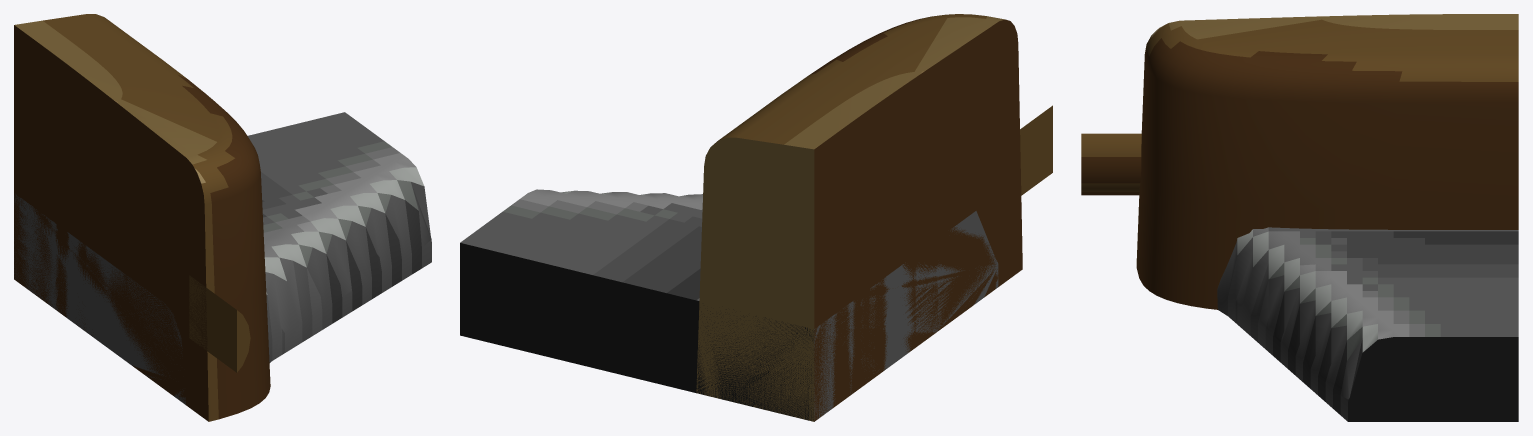
Rendered from pineapple_241.glb.
The picture shows the model from 3 angles, left to right: view 1: azimuth 30°, elevation 25°; view 2: azimuth 150°, elevation 25°; view 3: azimuth 270°, elevation 25°; orthographic projection. The views are drawn at different scales.
Visible parts, largest first — view 1: pineapple_241_ppylon+1, pineapple_241_pwing, pineapple_241_ppylon_rod+1; view 2: pineapple_241_ppylon+1, pineapple_241_pwing, pineapple_241_ppylon_rod+1; view 3: pineapple_241_ppylon+1, pineapple_241_pwing, pineapple_241_ppylon_rod+1.
Boxes of the visible parts, x1=… form: pineapple_241_ppylon+1: x1=14, y1=14, x2=270, y2=421; pineapple_241_pwing: x1=14, y1=112, x2=431, y2=404; pineapple_241_ppylon_rod+1: x1=189, y1=275, x2=250, y2=372; pineapple_241_ppylon+1: x1=696, y1=14, x2=1022, y2=421; pineapple_241_pwing: x1=460, y1=189, x2=998, y2=421; pineapple_241_ppylon_rod+1: x1=1020, y1=105, x2=1052, y2=195; pineapple_241_ppylon+1: x1=1136, y1=14, x2=1518, y2=309; pineapple_241_pwing: x1=1217, y1=227, x2=1518, y2=421; pineapple_241_ppylon_rod+1: x1=1081, y1=133, x2=1141, y2=195.
Size of the model in its own units: 23.98 by 17.63 by 27.98.
